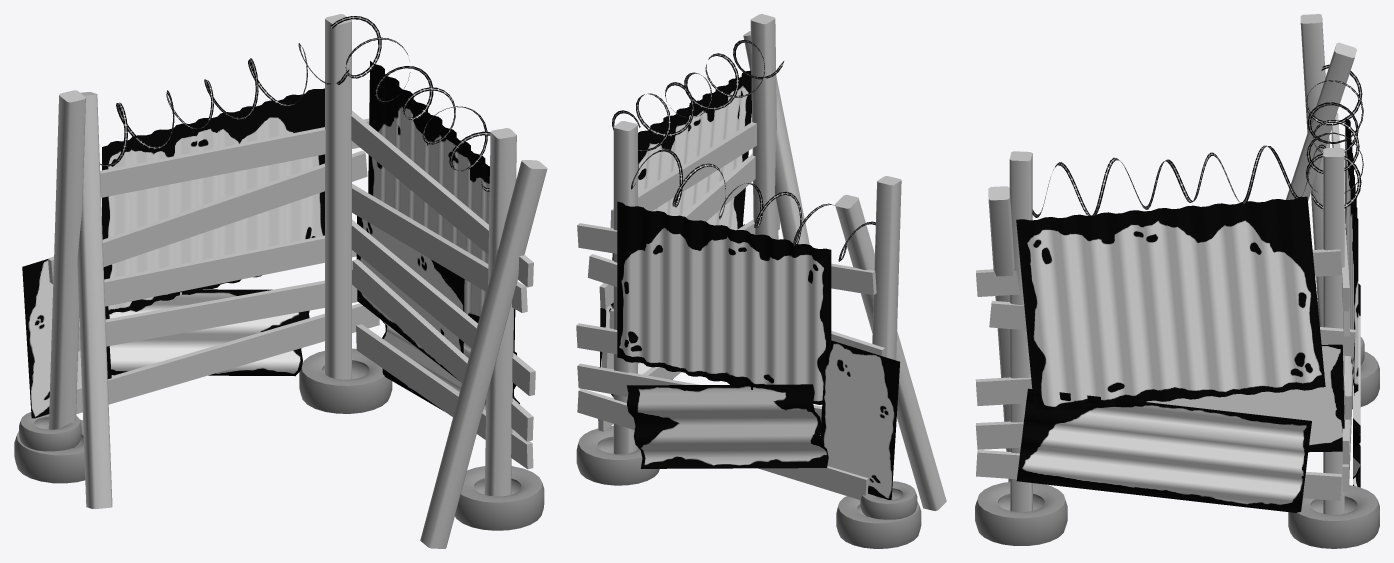
The model's file is JunkWallCorner.FBX.
3 renders of one model, left to right at view 1: azimuth 30°, elevation 25°; view 2: azimuth 150°, elevation 25°; view 3: azimuth 270°, elevation 25°, orthographic. The views are drawn at different scales.
Visible parts, largest first — view 1: JunkWallCorner; view 2: JunkWallCorner; view 3: JunkWallCorner.
Boxes of the visible parts, box(x1,y1,x2,y2) form: JunkWallCorner: box(14, 14, 547, 548); JunkWallCorner: box(576, 14, 946, 548); JunkWallCorner: box(975, 14, 1379, 548).
Size of what is drawn, in the model's own units: 101 by 97.77 by 107.
